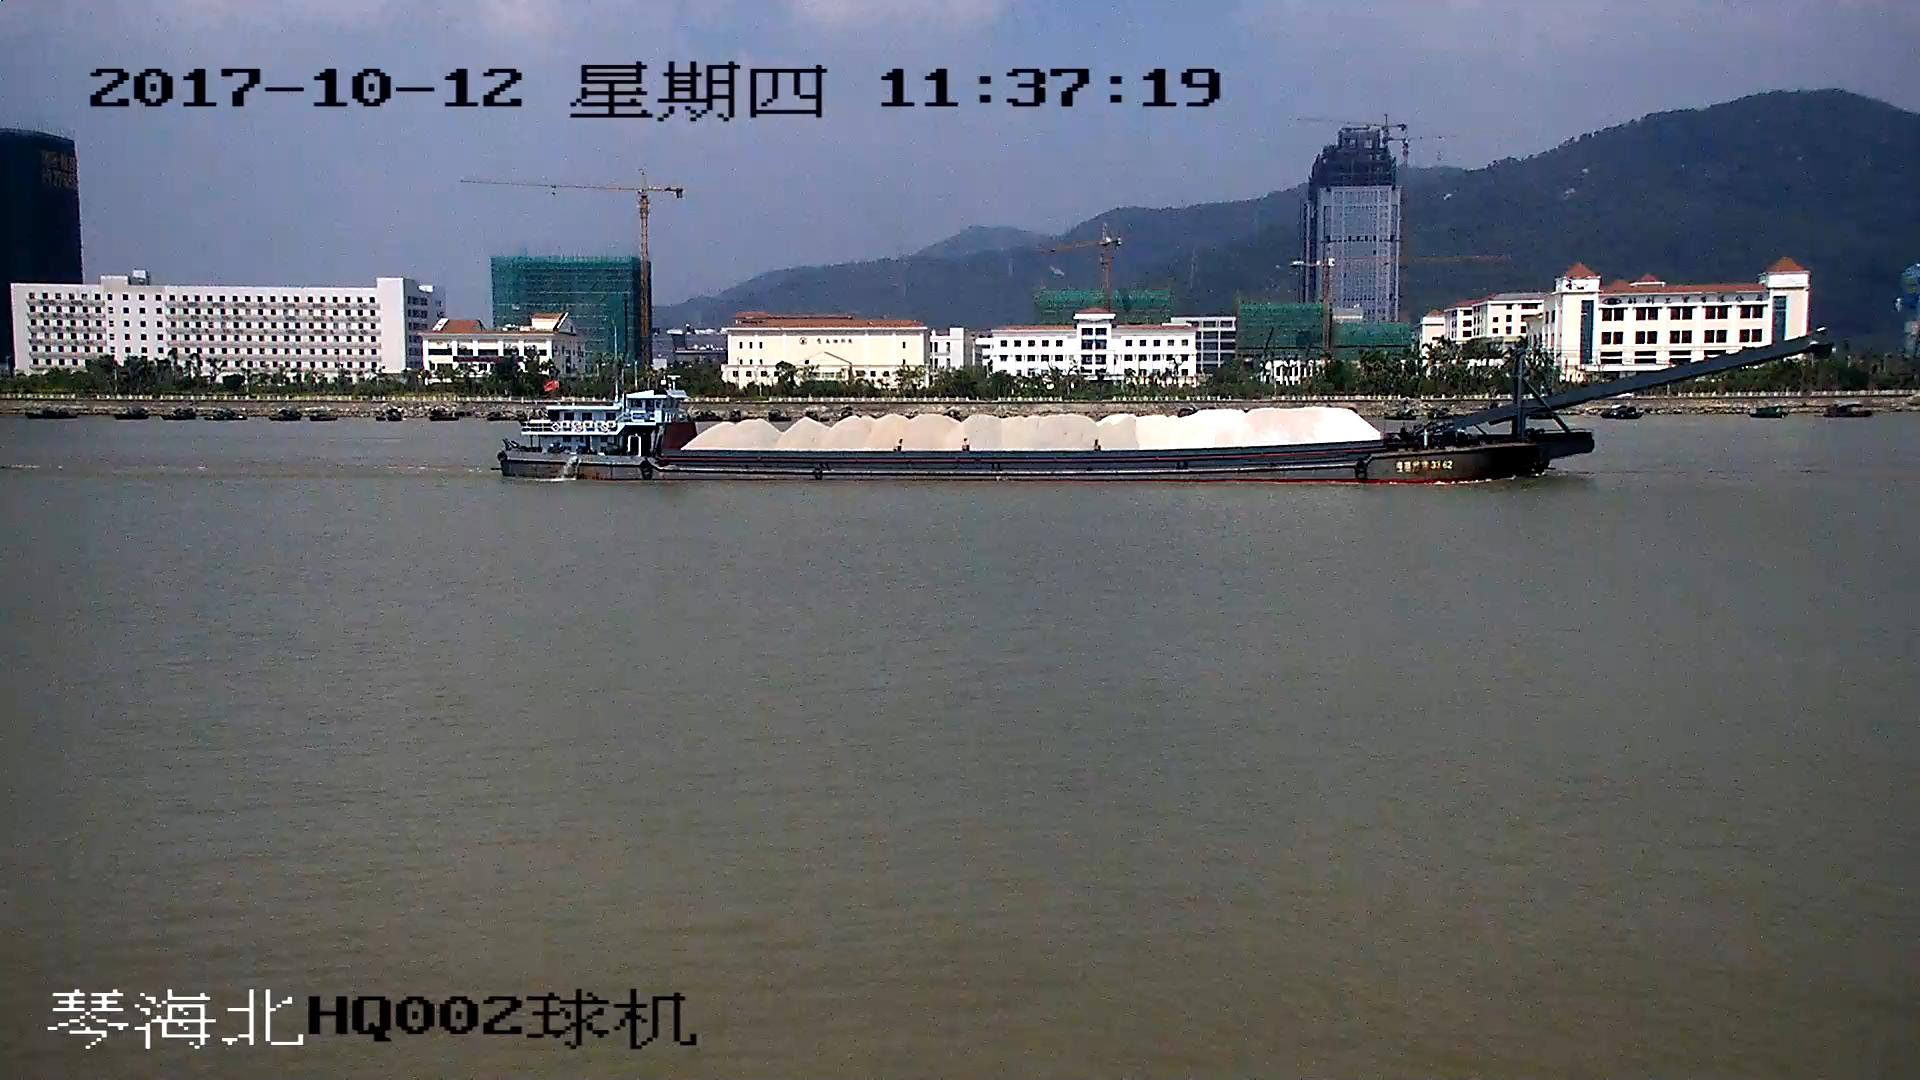ore carrier: (501, 333, 1824, 483)
